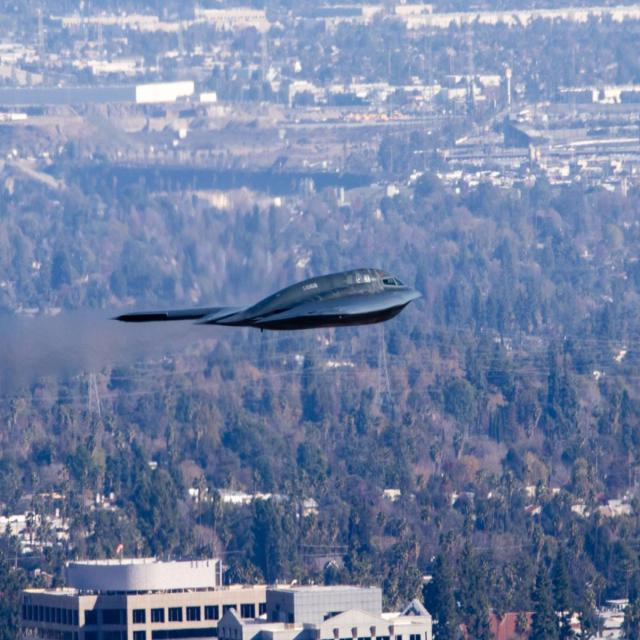MIL_Plane: (104, 268, 422, 332)
